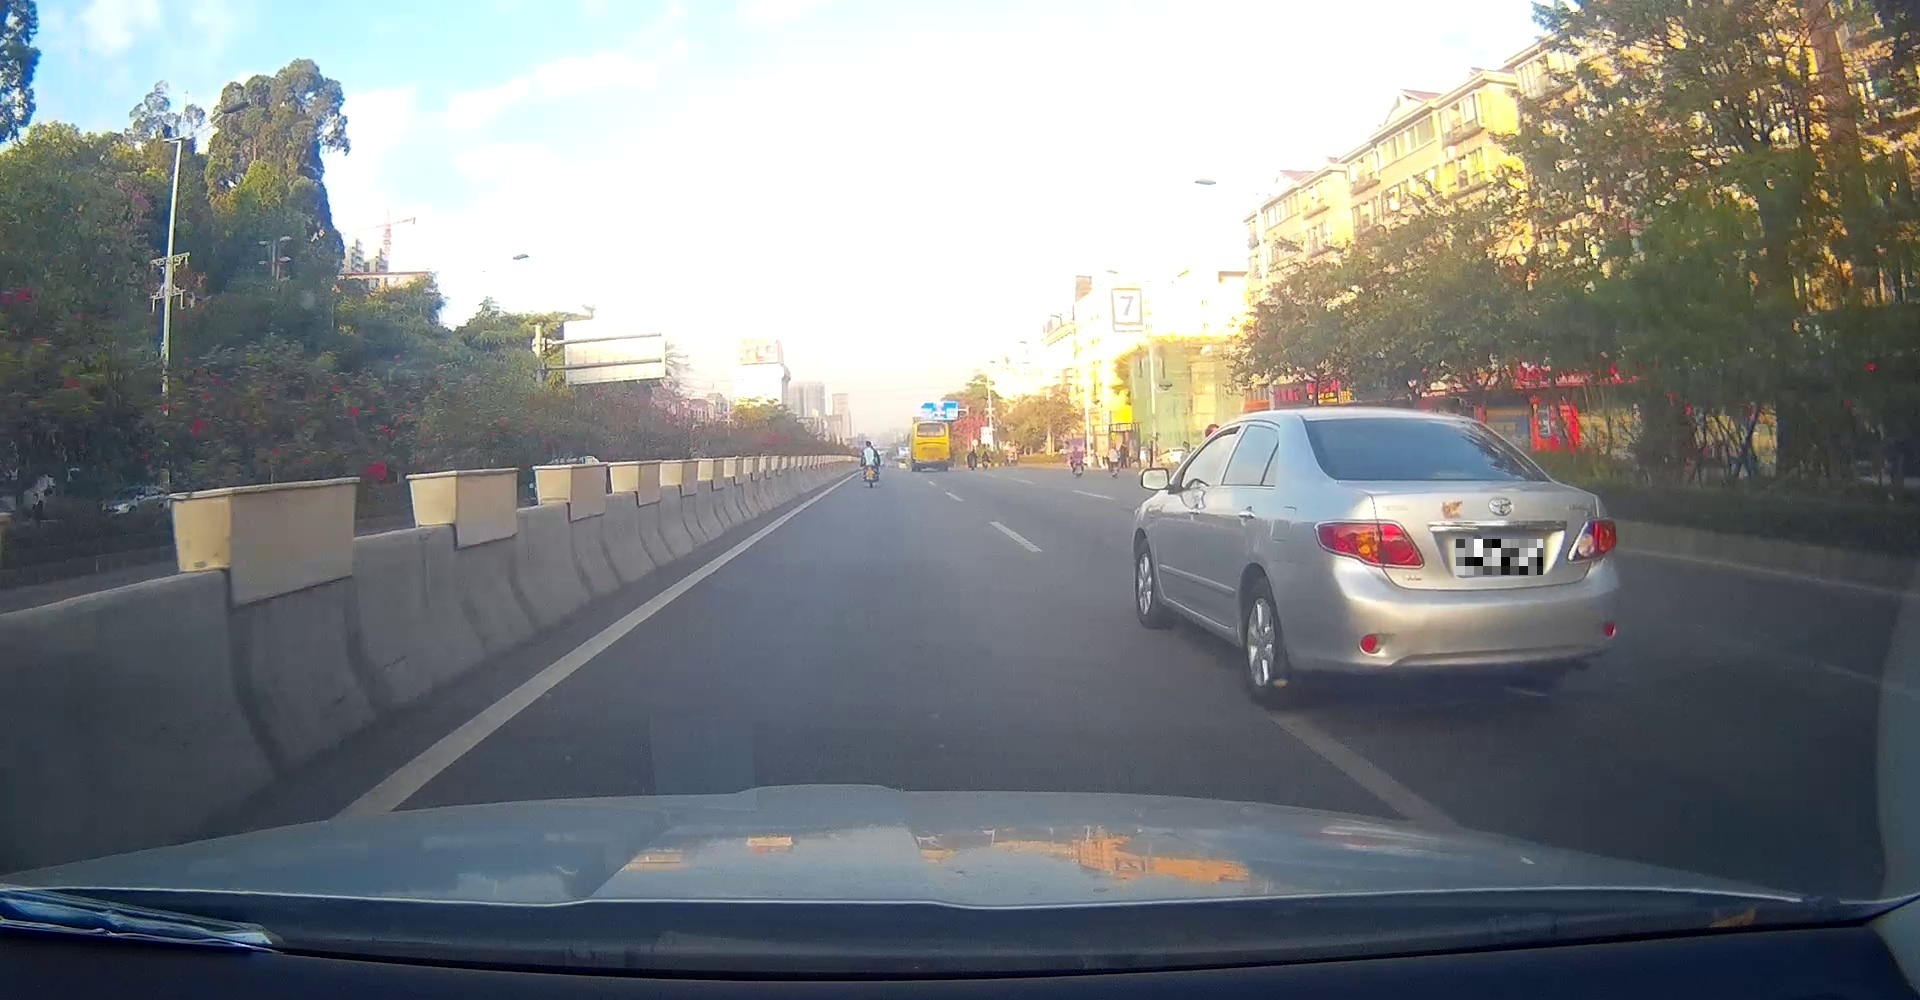L_light: (1312, 519, 1426, 569)
R_light: (1566, 516, 1618, 563)
T_light: (1396, 418, 1432, 426)
day-no: (1290, 407, 1623, 709)
plate_1: (1457, 539, 1543, 575)
